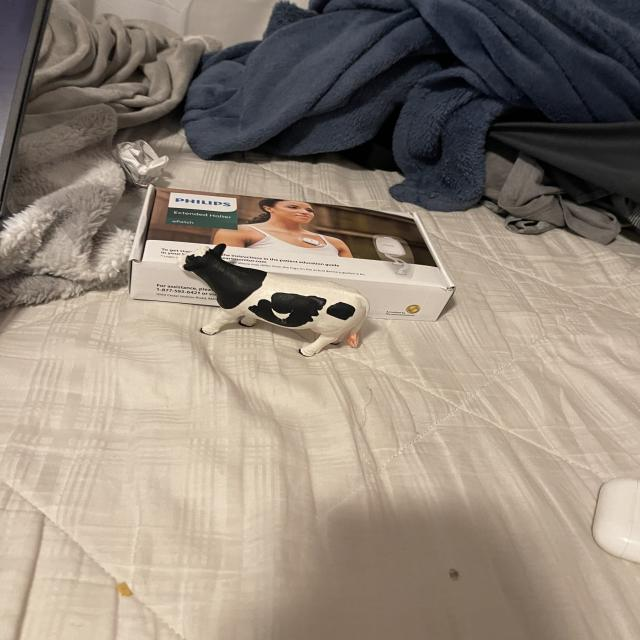cow: (157, 231, 374, 383)
